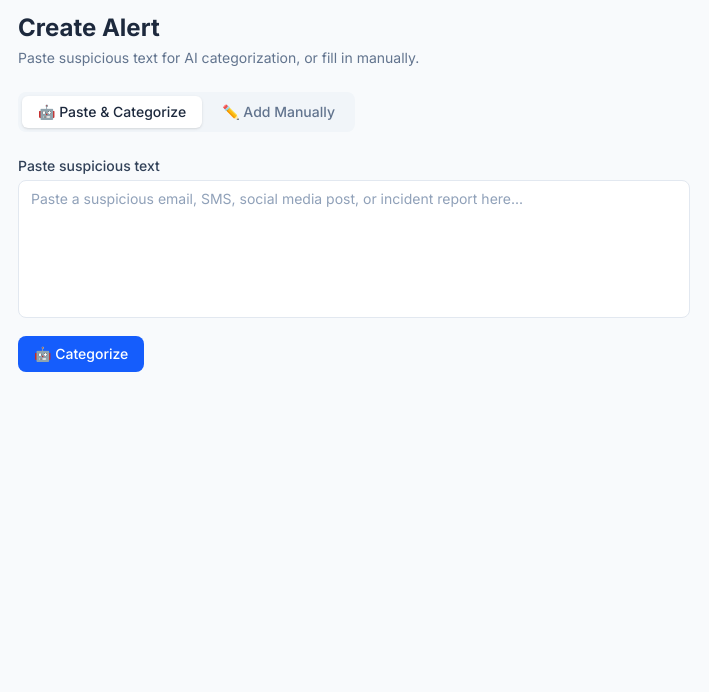
Scenario: Edge Cases — Validation › shows error when description is too short
Click the button "✏️ Add Manually" at coordinates (279, 112), box [206, 96, 351, 128]
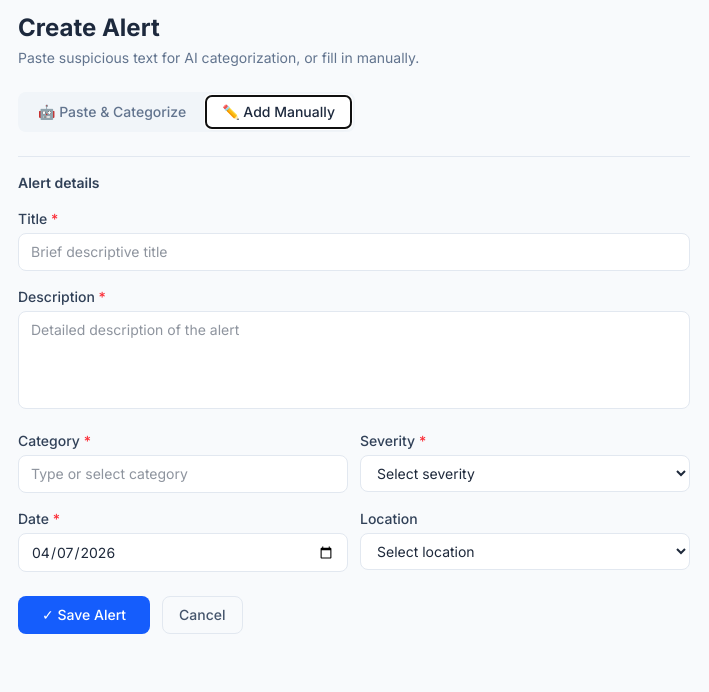
Type "Valid title here" into the field with placeholder "Brief descriptive title" at coordinates (354, 252), box [18, 233, 690, 271]
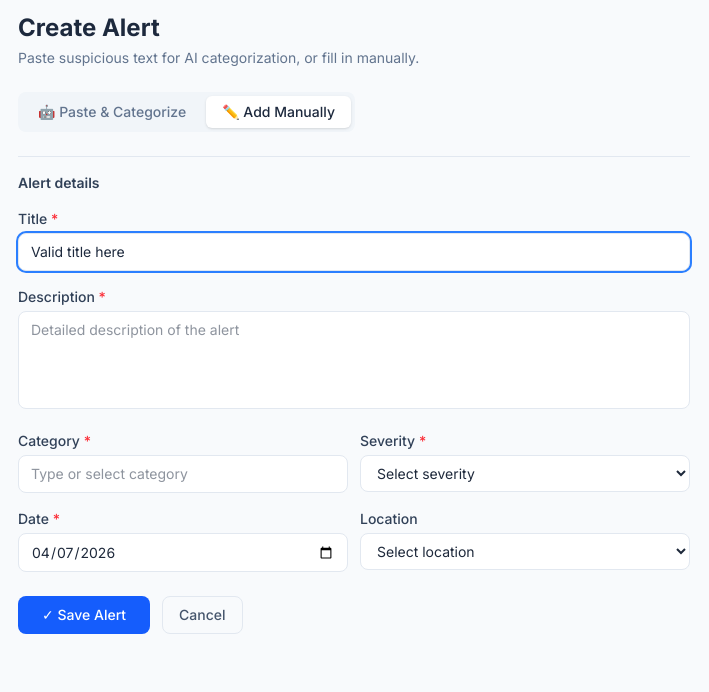
Type "Too short" into the text box with placeholder "Detailed description of the alert" at coordinates (354, 360), box [18, 311, 690, 409]
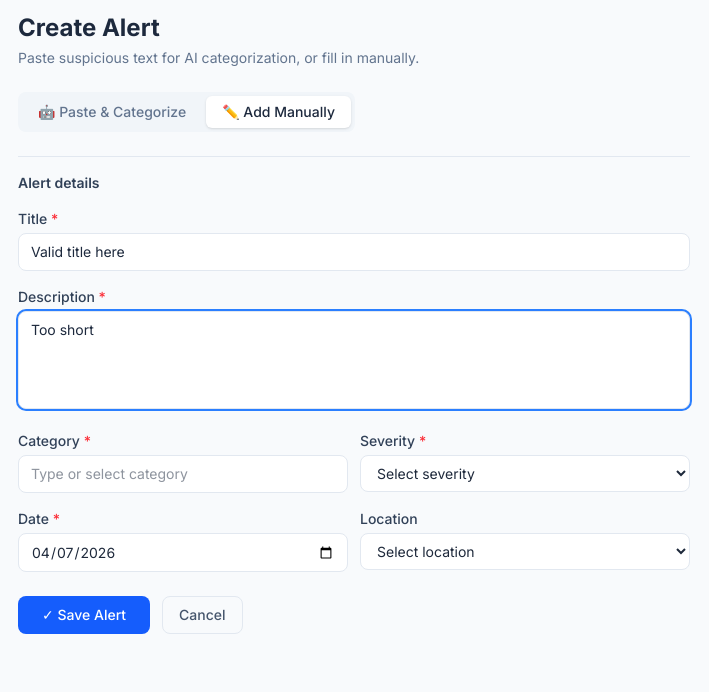
Click the button "✓ Save Alert" at coordinates (84, 615), box [18, 596, 150, 634]
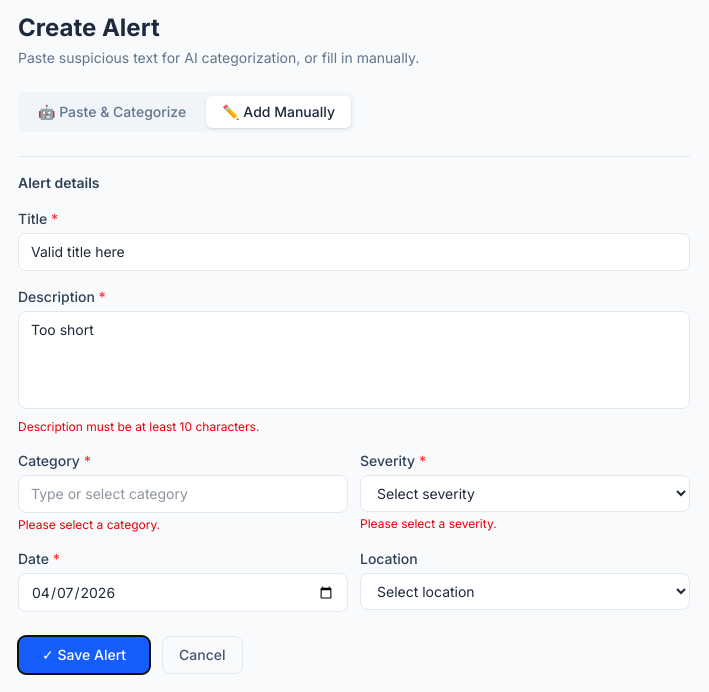
Expected: the text "Description must be at least 10 characters." is shown, [18, 419, 259, 434]
